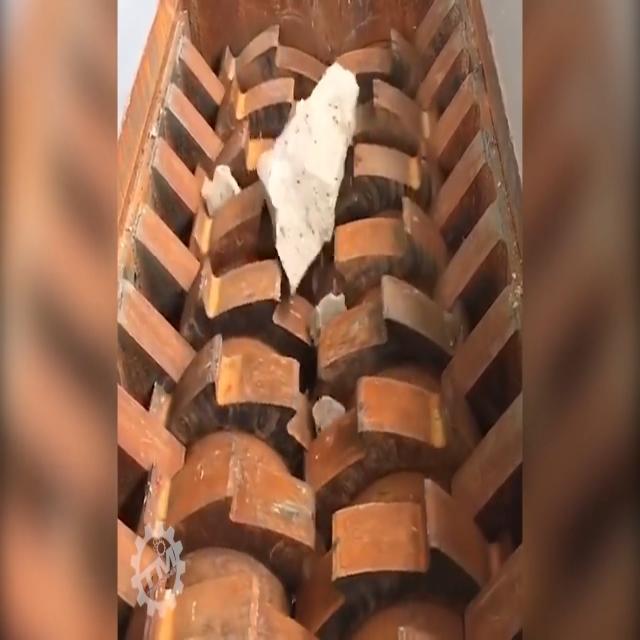Broyeur: (118, 0, 522, 640)
